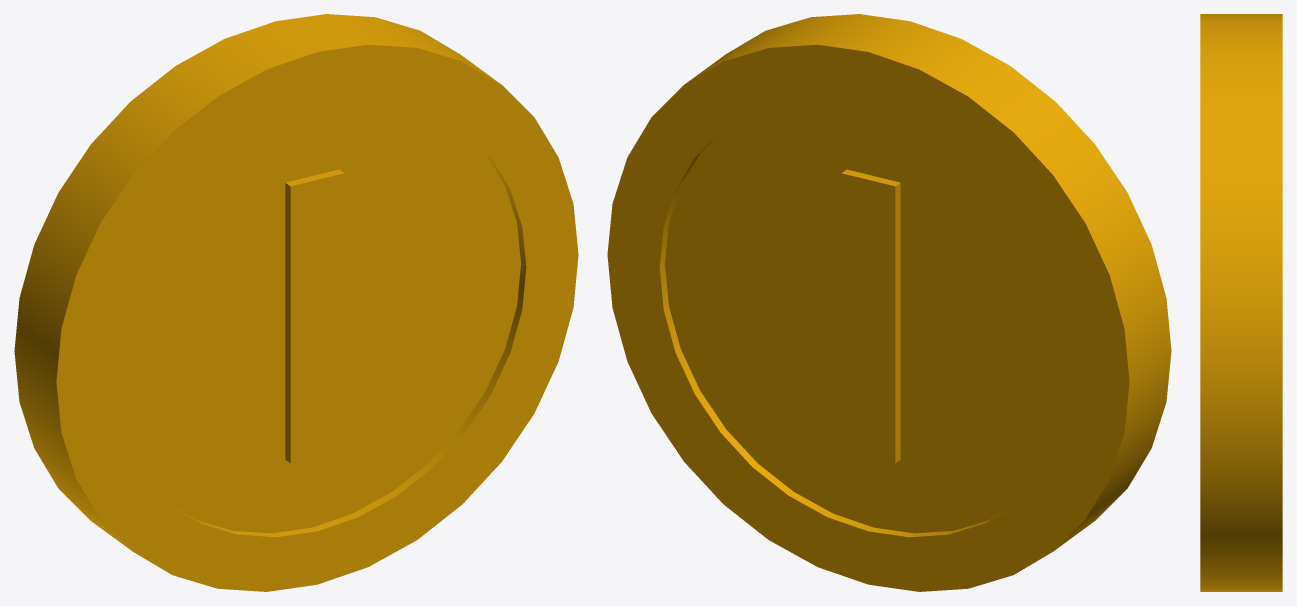
Rendered from coinobj_coin_0.001_lev2.glb.
The picture shows the model from 3 angles, left to right: view 1: azimuth 30°, elevation 25°; view 2: azimuth 150°, elevation 25°; view 3: azimuth 270°, elevation 25°; orthographic projection. The views are drawn at different scales.
Visible parts, largest first — view 1: coinobj_coin_0.001_lev2; view 2: coinobj_coin_0.001_lev2; view 3: coinobj_coin_0.001_lev2.
Boxes of the visible parts, bbox=[...] form: coinobj_coin_0.001_lev2: bbox=[14, 14, 578, 591]; coinobj_coin_0.001_lev2: bbox=[607, 14, 1171, 591]; coinobj_coin_0.001_lev2: bbox=[1200, 14, 1282, 591].
Size of the model in its own units: 7.42 by 7.24 by 1.03.
